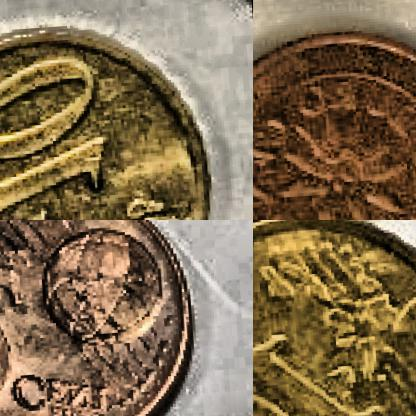coin: (0, 16, 222, 219), (0, 220, 204, 415), (253, 9, 415, 219), (253, 220, 415, 415)
